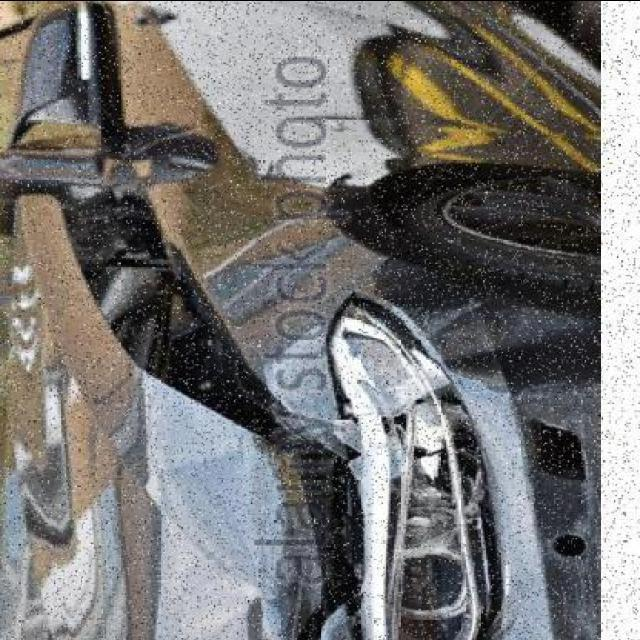Headlight-Damage: (299, 280, 495, 640)
bonnet-dent: (0, 391, 326, 640)
fender-dent: (159, 179, 455, 282)
